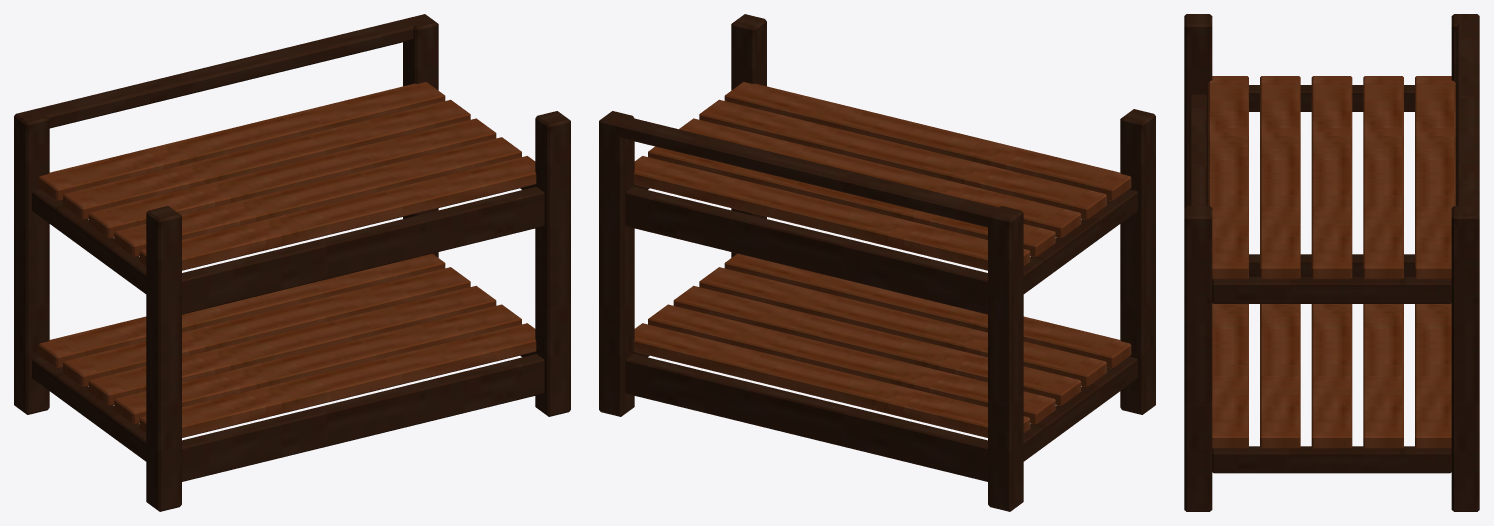
File: lowrack.glb
3 views of the same model, side by side, from view 1: azimuth 30°, elevation 25°; view 2: azimuth 150°, elevation 25°; view 3: azimuth 270°, elevation 25° (orthographic).
Visible parts, largest first — view 1: LowRackBody; view 2: LowRackBody; view 3: LowRackBody.
Boxes of the visible parts, left/top/right/bottom form: LowRackBody: left=14, top=14, right=570, bottom=511; LowRackBody: left=599, top=14, right=1155, bottom=511; LowRackBody: left=1184, top=14, right=1479, bottom=511.
Bounding box in the file's own units: 0.62 × 0.42 × 0.38.
2 materials, 2 textured.
